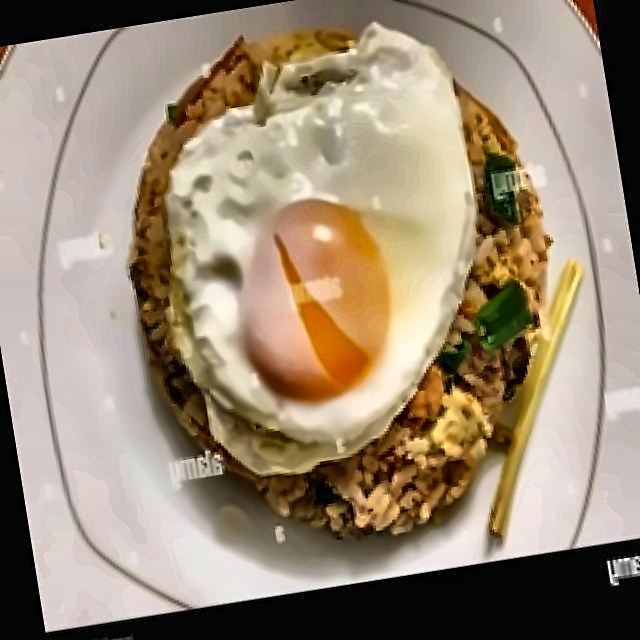rice: (123, 0, 509, 490)
